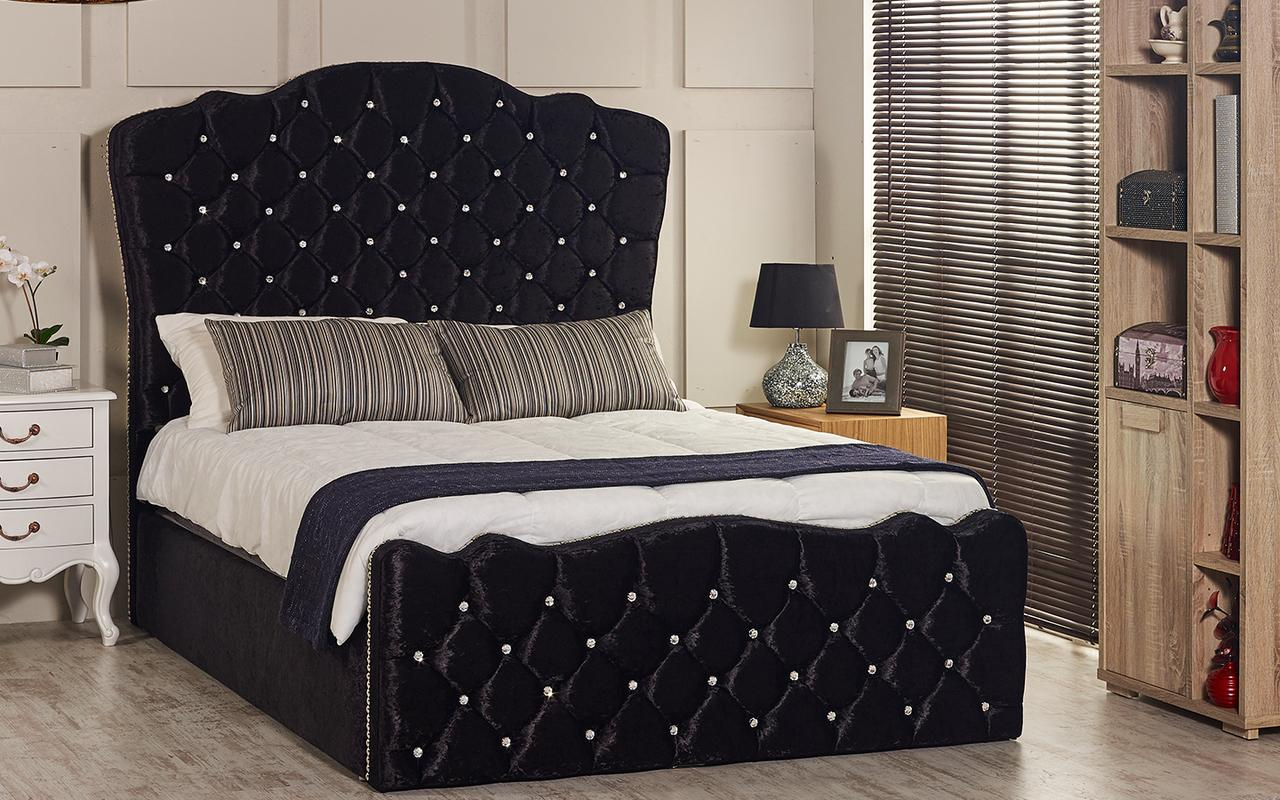bed: (78, 80, 902, 670)
